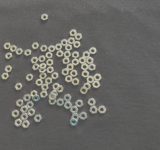nut: (80, 112, 88, 121), (90, 106, 98, 115), (98, 106, 107, 114), (75, 100, 84, 108), (64, 102, 73, 110), (64, 94, 72, 103), (80, 87, 89, 95), (15, 119, 23, 127), (22, 121, 30, 129), (34, 115, 42, 123), (21, 114, 29, 122), (12, 110, 20, 118), (20, 106, 28, 114), (16, 100, 24, 108), (40, 91, 48, 99), (70, 119, 78, 127), (88, 99, 96, 107), (57, 99, 65, 107), (84, 83, 92, 91), (93, 81, 101, 89), (87, 76, 95, 84), (94, 74, 102, 82), (72, 78, 80, 86), (70, 70, 78, 78), (82, 71, 90, 79), (79, 57, 87, 65), (75, 33, 83, 41), (70, 107, 79, 114), (1, 73, 10, 80), (28, 109, 35, 117), (72, 114, 80, 121), (49, 98, 57, 105), (49, 94, 57, 101), (51, 91, 59, 98), (57, 86, 64, 94), (53, 83, 60, 91), (41, 84, 49, 91), (15, 84, 23, 91), (5, 66, 13, 73), (36, 79, 43, 87), (45, 78, 52, 86), (39, 73, 47, 80), (26, 74, 34, 81), (65, 76, 73, 83), (82, 63, 89, 71), (89, 64, 96, 72), (87, 57, 94, 65), (83, 52, 91, 59), (89, 48, 97, 55), (72, 59, 80, 66), (47, 59, 54, 67), (5, 53, 13, 60), (25, 49, 32, 57), (38, 56, 46, 63), (46, 52, 53, 60), (40, 45, 48, 52), (48, 46, 56, 53), (64, 51, 72, 58), (72, 52, 80, 59), (55, 44, 63, 51), (65, 44, 73, 51), (74, 41, 81, 49), (61, 39, 68, 47), (27, 102, 34, 109), (24, 95, 31, 102), (33, 95, 40, 102), (31, 91, 38, 98), (52, 73, 59, 80), (62, 69, 69, 76), (67, 64, 74, 71), (47, 67, 54, 74), (33, 64, 40, 71), (40, 63, 47, 70), (4, 43, 11, 50), (32, 43, 39, 50), (63, 58, 70, 65), (57, 51, 64, 58), (68, 38, 75, 45), (70, 30, 77, 37), (41, 14, 48, 21), (39, 68, 47, 74), (16, 49, 24, 55), (31, 58, 39, 64), (10, 46, 17, 52)
